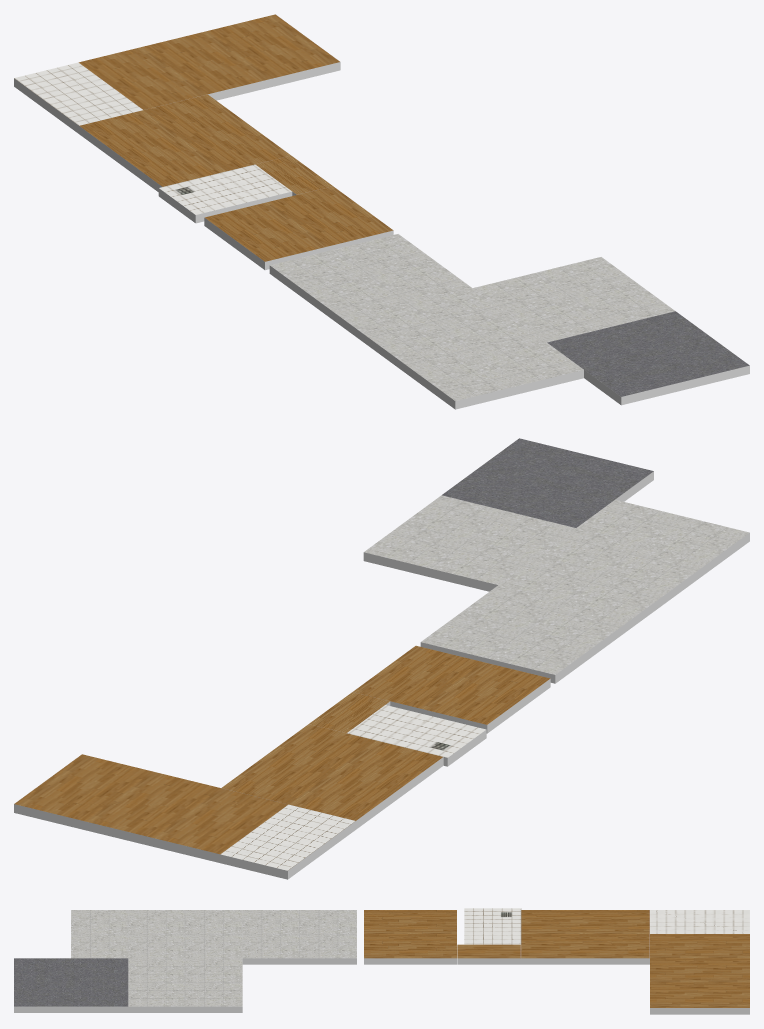
File: Piso_2.obj
3 views of the same model, one above another, from view 1: azimuth 30°, elevation 25°; view 2: azimuth 150°, elevation 25°; view 3: azimuth 270°, elevation 25° (orthographic). The views are drawn at different scales.
Visible parts, largest first — view 1: pCube2, pCube3, pCube12, pCube6, pCube8, pCube9, pCube5, pCube1, pCube7, pCube10, pCube11, pCube4; view 2: pCube2, pCube3, pCube6, pCube9, pCube8, pCube12, pCube5, pCube1, pCube7, pCube10, pCube11, pCube4; view 3: pCube2, pCube3, pCube6, pCube9, pCube12, pCube8, pCube5, pCube1, pCube7, pCube11, pCube10, pCube4.
Boxes of the visible parts, left/top/right/bottom form: pCube2: left=78, top=14, right=340, bottom=109; pCube3: left=79, top=94, right=290, bottom=191; pCube12: left=547, top=311, right=749, bottom=405; pCube6: left=269, top=234, right=472, bottom=327; pCube8: left=344, top=288, right=546, bottom=381; pCube9: left=473, top=257, right=675, bottom=342; pCube5: left=204, top=186, right=393, bottom=270; pCube1: left=14, top=62, right=142, bottom=133; pCube7: left=158, top=164, right=292, bottom=223; pCube10: left=418, top=358, right=519, bottom=409; pCube11: left=483, top=342, right=583, bottom=393; pCube4: left=255, top=155, right=332, bottom=195; pCube2: left=14, top=754, right=287, bottom=862; pCube3: left=221, top=724, right=443, bottom=829; pCube6: left=420, top=585, right=633, bottom=683; pCube9: left=363, top=495, right=575, bottom=591; pCube8: left=498, top=528, right=710, bottom=626; pCube12: left=442, top=438, right=653, bottom=527; pCube5: left=353, top=645, right=550, bottom=733; pCube1: left=220, top=804, right=355, bottom=879; pCube7: left=347, top=705, right=486, bottom=766; pCube10: left=644, top=516, right=749, bottom=569; pCube11: left=576, top=499, right=682, bottom=544; pCube4: left=309, top=692, right=390, bottom=733; pCube2: left=650, top=934, right=749, bottom=1014; pCube3: left=521, top=910, right=649, bottom=964; pCube6: left=242, top=910, right=356, bottom=964; pCube9: left=128, top=958, right=242, bottom=1012; pCube12: left=14, top=958, right=128, bottom=1012; pCube8: left=128, top=910, right=242, bottom=958; pCube5: left=364, top=910, right=456, bottom=964; pCube1: left=650, top=910, right=749, bottom=933; pCube7: left=464, top=908, right=521, bottom=944; pCube11: left=71, top=934, right=128, bottom=958; pCube10: left=71, top=910, right=128, bottom=933; pCube4: left=457, top=944, right=521, bottom=964.
Size of the model in its own units: 4.12 by 0.1255 by 12.88.
